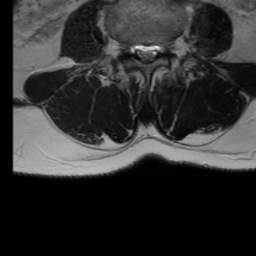CCS_stenosis: (142, 34, 151, 71)
LFS_normal: (160, 35, 171, 61)
LLS_normal: (151, 34, 160, 66)
RFS_normal: (124, 33, 133, 64)
RLS_normal: (133, 35, 142, 65)
